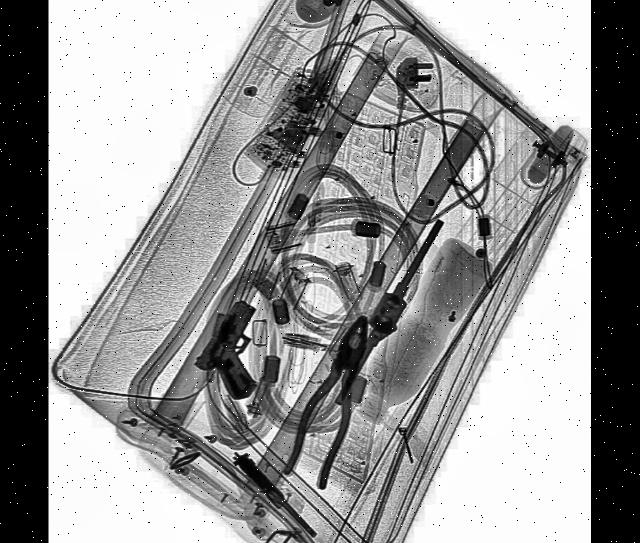Gun: (188, 285, 286, 414)
Pliers: (282, 304, 380, 497)
